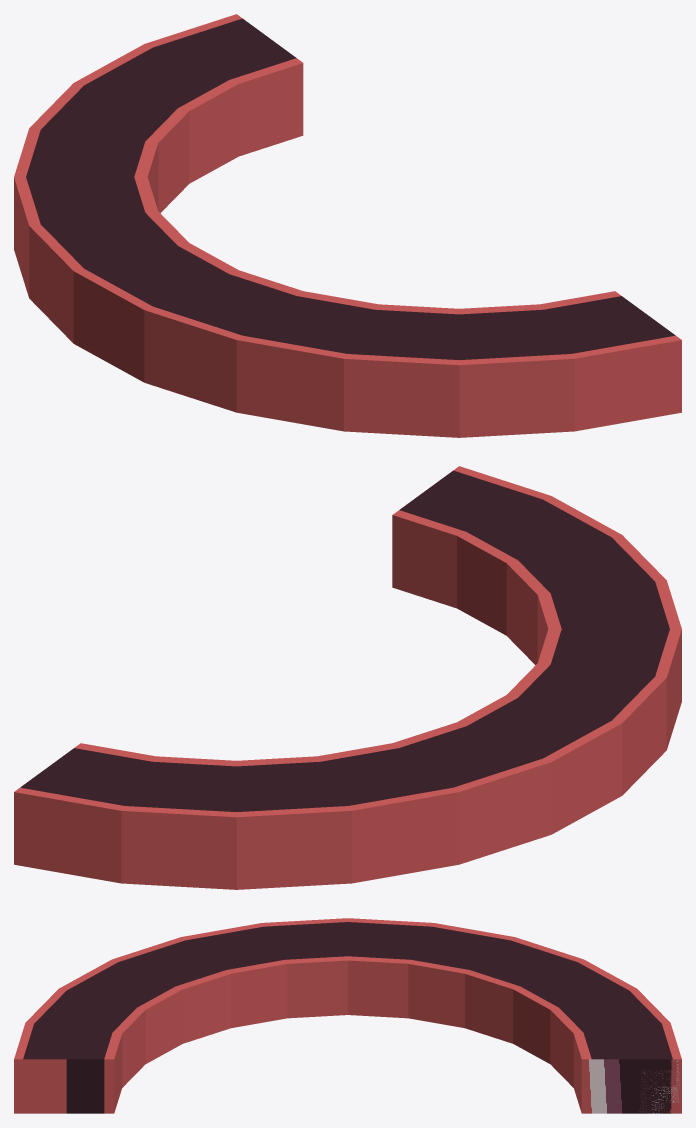
The model's file is road_turn.glb.
3 renders of one model, top to bottom at view 1: azimuth 30°, elevation 25°; view 2: azimuth 150°, elevation 25°; view 3: azimuth 270°, elevation 25°, orthographic. The views are drawn at different scales.
Parts seen in each view (by area): view 1: Cube.025; view 2: Cube.025; view 3: Cube.025.
Boxes of the visible parts, x1,y1,x2,y2 form: Cube.025: [14, 14, 681, 437]; Cube.025: [14, 466, 681, 889]; Cube.025: [14, 918, 681, 1113].
Size of the model in its own units: 200 by 35.94 by 399.
Materials: 1 (1 with a texture image).
